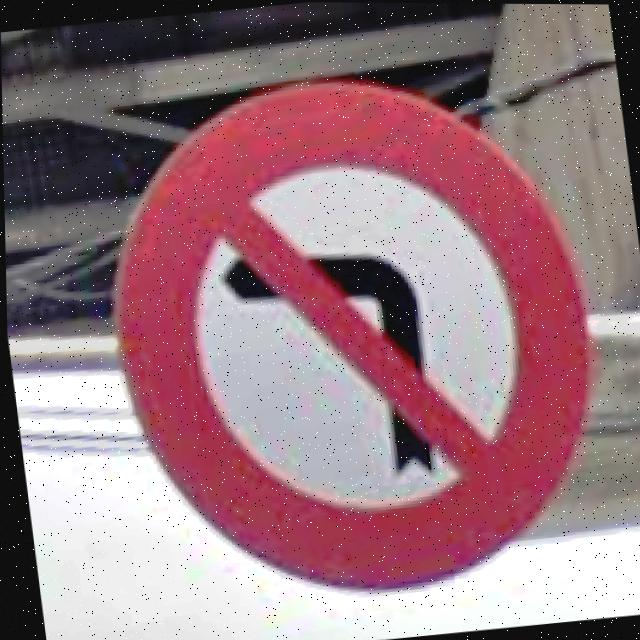noturnleft: (110, 79, 594, 591)
